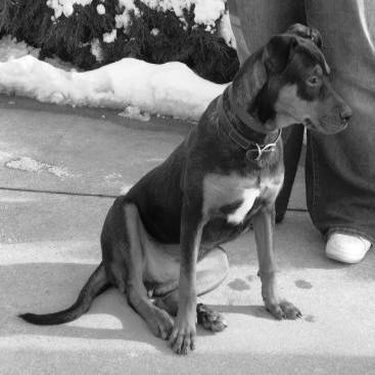dog: (13, 15, 359, 361)
